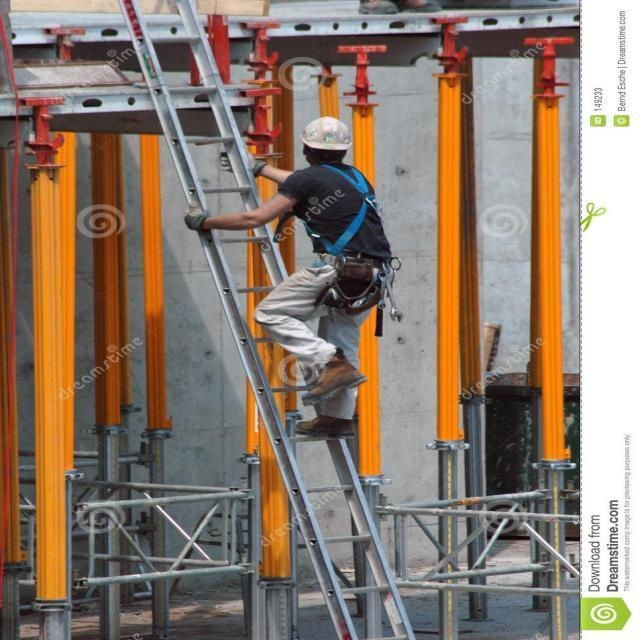Arnes_seguridad: (294, 162, 397, 272)
